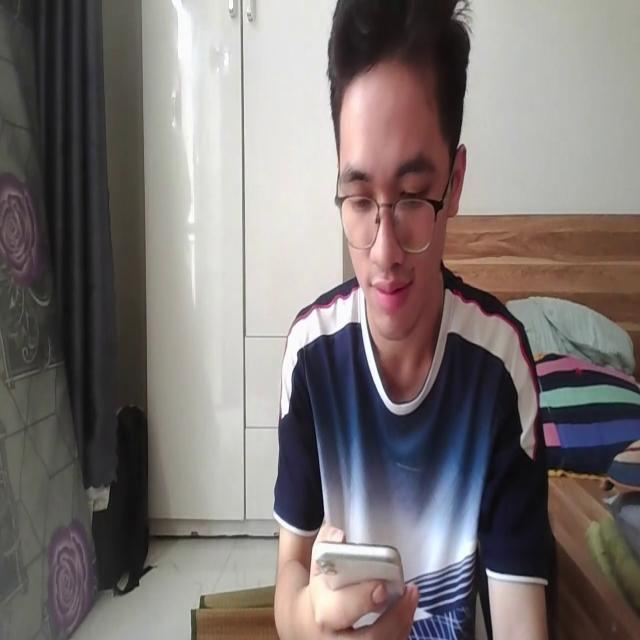phone: (309, 522, 409, 614)
student: (268, 0, 557, 640)
